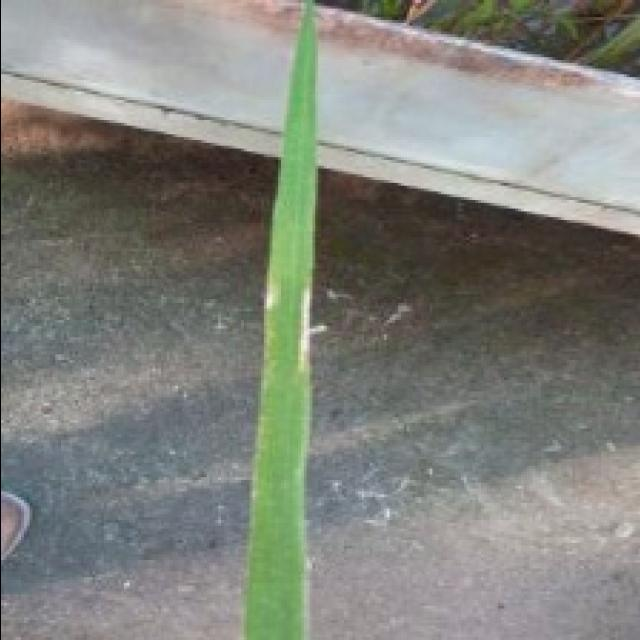Unhealthy: (299, 288, 311, 366), (265, 275, 280, 314)
